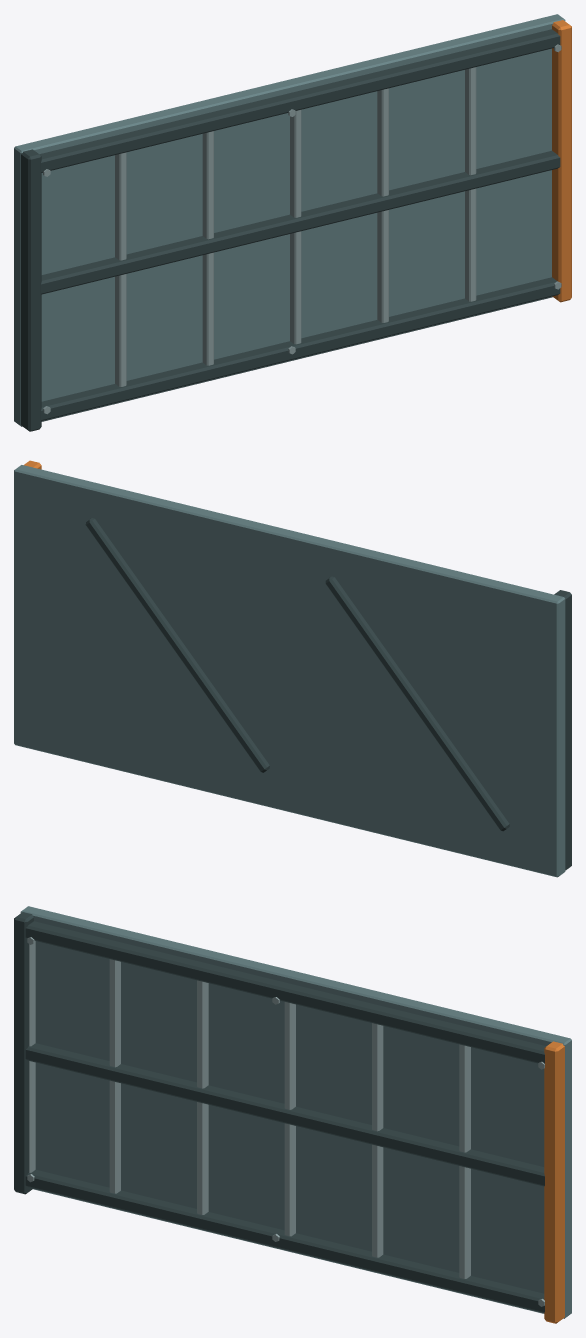
Rendered from e5b-alarm-gate-leaf.glb.
3 views of the same model, one above another, from view 1: azimuth 30°, elevation 25°; view 2: azimuth 150°, elevation 25°; view 3: azimuth 330°, elevation 25° (orthographic).
Parts seen in each view (by area): view 1: Continuous opaque back, Folded transverse rail.002, Folded transverse rail.001, Folded transverse rail, Guide post, Meeting post, Pressed vertical hat.001, Pressed vertical hat.005, Pressed vertical hat.004, Pressed vertical hat.002, Pressed vertical hat.003; view 2: Continuous opaque back, Reverse face rake, Reverse face rake.001, Guide post; view 3: Continuous opaque back, Folded transverse rail.002, Folded transverse rail.001, Folded transverse rail, Meeting post, Guide post, Pressed vertical hat.001, Pressed vertical hat.005, Pressed vertical hat.003, Pressed vertical hat.002, Pressed vertical hat.004, Pressed vertical hat.
Part boxes in pixels (bbox=[...]): Continuous opaque back: bbox=[14, 14, 565, 426]; Folded transverse rail.002: bbox=[39, 29, 560, 172]; Folded transverse rail.001: bbox=[41, 150, 560, 294]; Folded transverse rail: bbox=[41, 277, 560, 420]; Guide post: bbox=[21, 149, 41, 431]; Meeting post: bbox=[552, 20, 571, 302]; Pressed vertical hat.001: bbox=[115, 152, 126, 386]; Pressed vertical hat.005: bbox=[465, 67, 476, 301]; Pressed vertical hat.004: bbox=[377, 88, 388, 322]; Pressed vertical hat.002: bbox=[202, 131, 213, 365]; Pressed vertical hat.003: bbox=[290, 110, 301, 344]; Continuous opaque back: bbox=[14, 465, 565, 877]; Reverse face rake: bbox=[325, 576, 509, 831]; Reverse face rake.001: bbox=[85, 518, 269, 772]; Guide post: bbox=[554, 590, 571, 870]; Continuous opaque back: bbox=[20, 906, 571, 1318]; Folded transverse rail.002: bbox=[25, 921, 546, 1063]; Folded transverse rail.001: bbox=[25, 1043, 544, 1186]; Folded transverse rail: bbox=[25, 1169, 544, 1312]; Meeting post: bbox=[544, 1041, 564, 1323]; Guide post: bbox=[14, 912, 33, 1194]; Pressed vertical hat.001: bbox=[109, 959, 120, 1193]; Pressed vertical hat.005: bbox=[459, 1044, 470, 1278]; Pressed vertical hat.003: bbox=[284, 1002, 295, 1236]; Pressed vertical hat.002: bbox=[197, 980, 208, 1214]; Pressed vertical hat.004: bbox=[372, 1023, 383, 1257]; Pressed vertical hat: bbox=[29, 941, 35, 1172].
Size of the model in its own units: 7.98 by 3.86 by 0.5.
